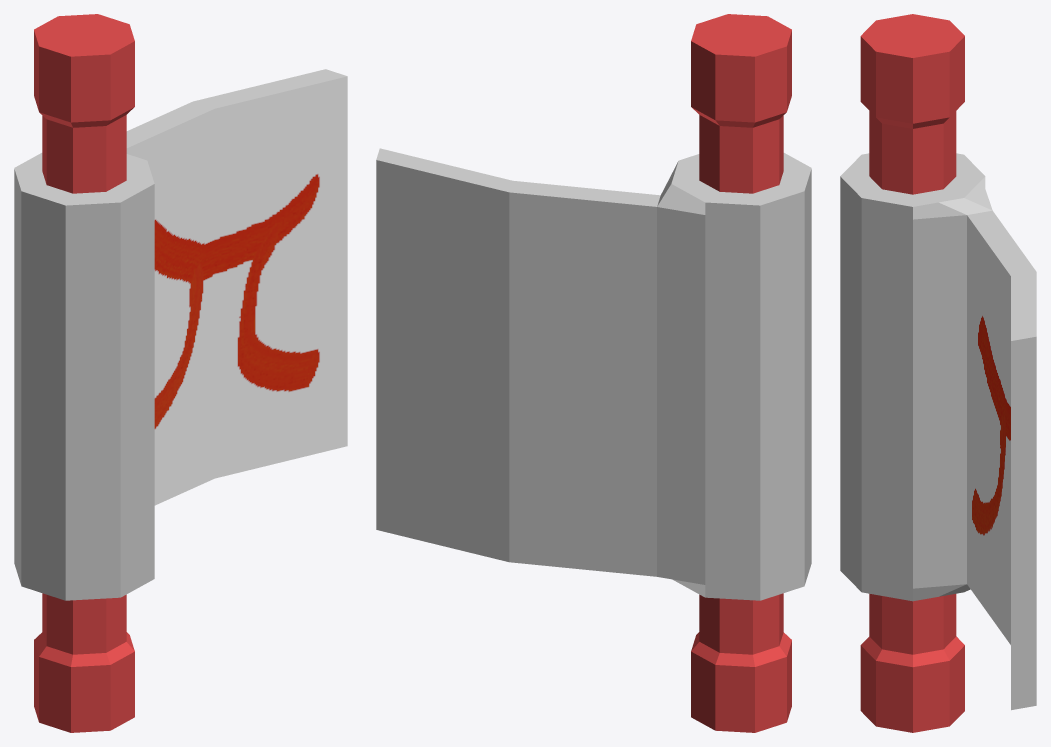
The model's file is ScrollLowPerf.glb.
3 renders of one model, left to right at view 1: azimuth 30°, elevation 25°; view 2: azimuth 150°, elevation 25°; view 3: azimuth 270°, elevation 25°, orthographic.
Visible parts, largest first — view 1: Circle; view 2: Circle; view 3: Circle.
Boxes of the visible parts, x1,y1,x2,y2 form: Circle: [14, 14, 347, 732]; Circle: [376, 14, 811, 732]; Circle: [840, 14, 1036, 732].
Bounding box in the file's own units: 5.97 × 10.27 × 2.71.
3 materials, 1 textured.
